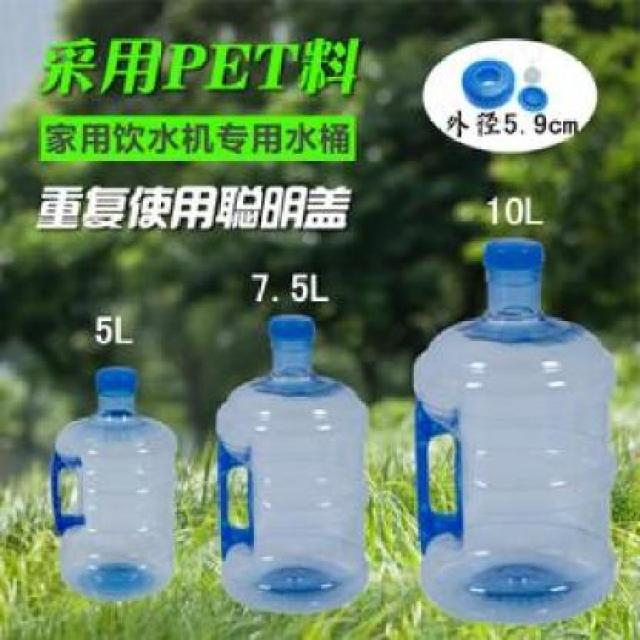coolerbottle: (411, 234, 619, 628), (210, 311, 378, 619), (50, 363, 186, 607)
